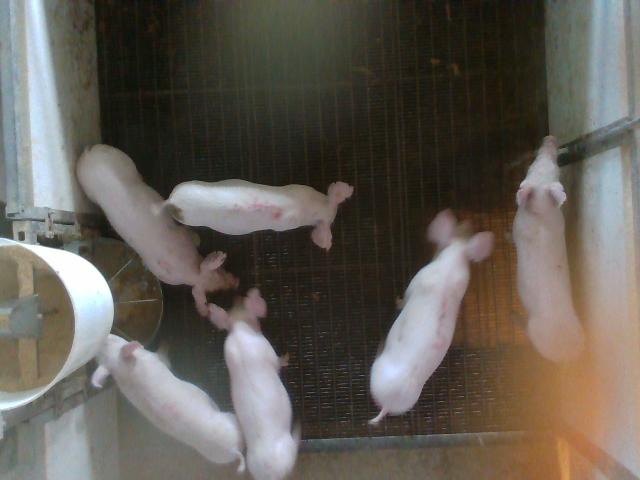pig-3: (369, 209, 495, 424)
pig-4: (91, 334, 245, 472)
pig-5: (151, 179, 354, 249)
